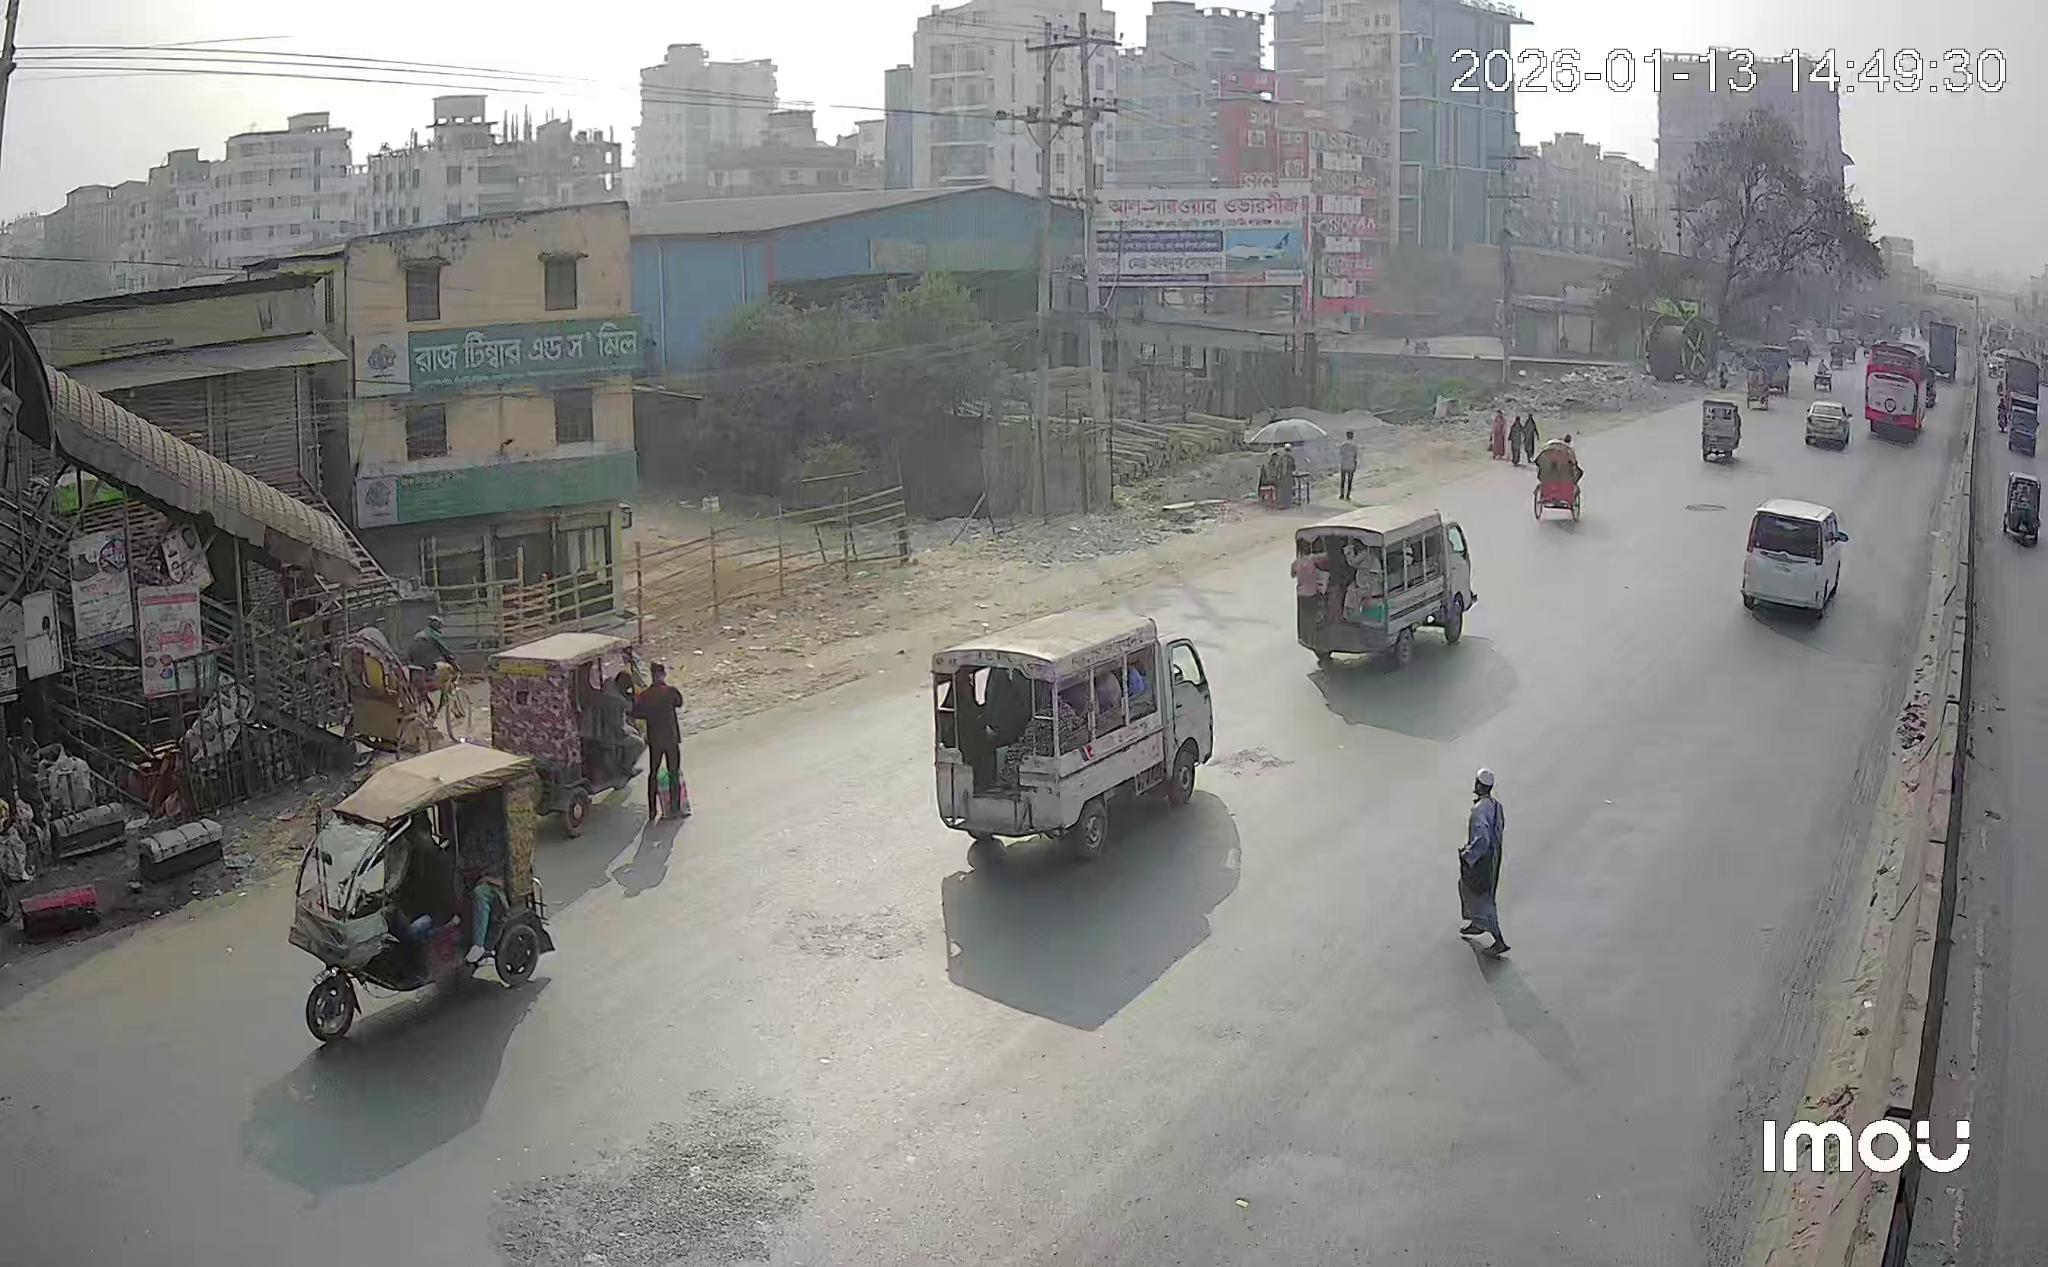Auto Rickshaw: (288, 743, 556, 1043), (489, 632, 644, 837)
Cycle Rickshaw: (342, 629, 468, 755), (1532, 433, 1583, 521)
Jeep-SUV: (1741, 500, 1848, 613)
Private-Sedan Car: (1805, 399, 1853, 451)
